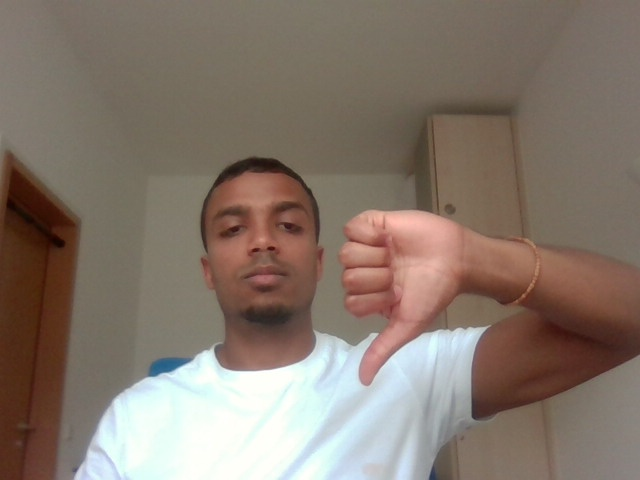no: (327, 187, 481, 393)
